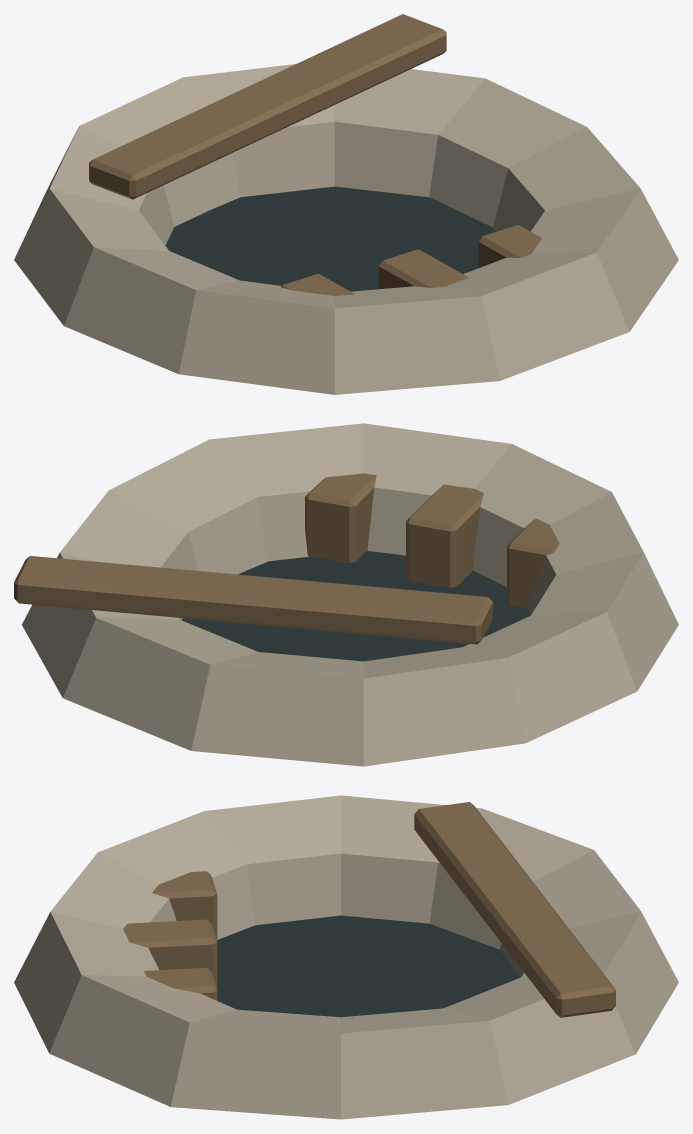
Rendered from hole.glb.
3 views of the same model, one above another, from view 1: azimuth 30°, elevation 25°; view 2: azimuth 150°, elevation 25°; view 3: azimuth 270°, elevation 25° (orthographic). The views are drawn at different scales.
Parts seen in each view (by area): view 1: hole; view 2: hole; view 3: hole.
Boxes of the visible parts, left/top/right/bottom form: hole: left=14, top=14, right=678, bottom=394; hole: left=14, top=423, right=678, bottom=766; hole: left=14, top=795, right=678, bottom=1119.
Size of the model in its own units: 1.06 by 0.1975 by 1.11.
